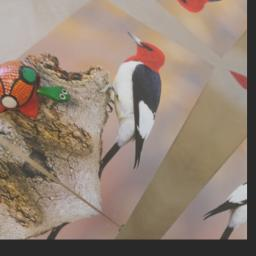Woodpecker: (49, 26, 202, 195)
